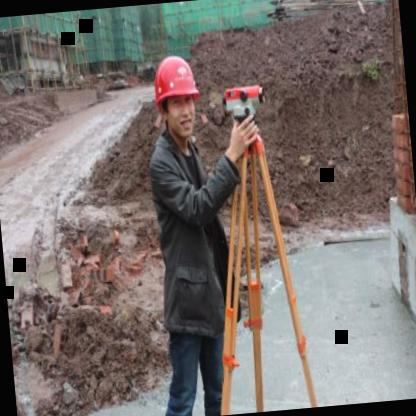helmet: (144, 48, 205, 150)
